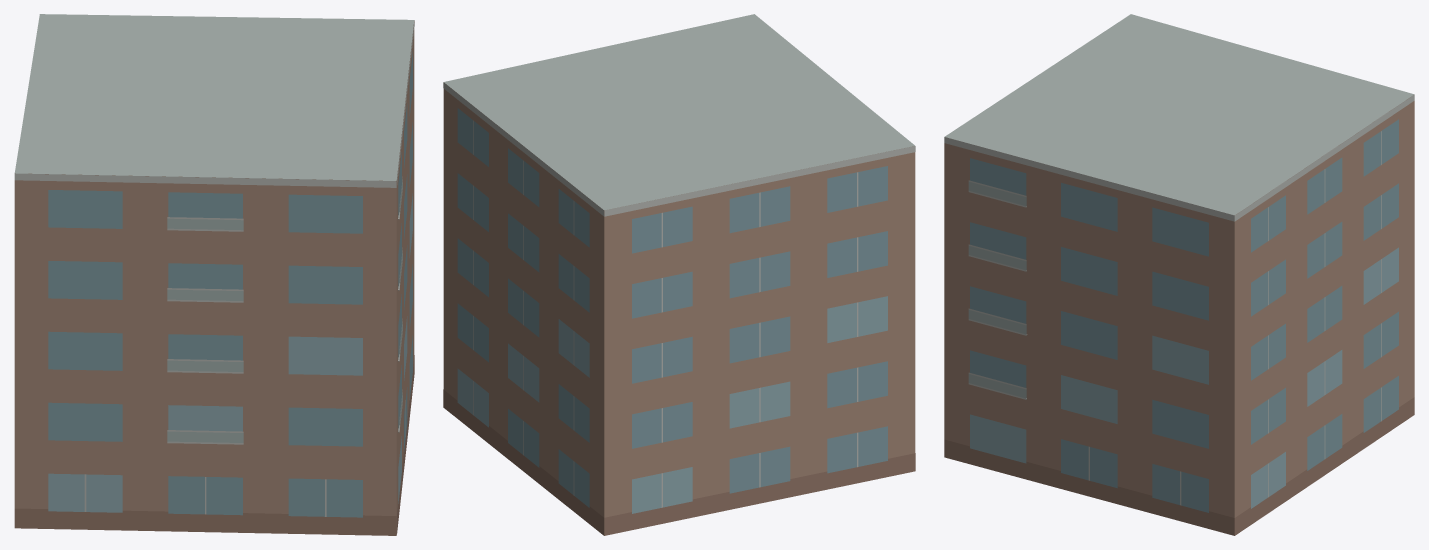
The model's file is survey-upis-32968911.glb.
3 views of the same model, side by side, from view 1: azimuth 30°, elevation 25°; view 2: azimuth 150°, elevation 25°; view 3: azimuth 270°, elevation 25° (orthographic). The views are drawn at different scales.
Visible parts, largest first — view 1: survey-upis-32968911.tmp; view 2: survey-upis-32968911.tmp; view 3: survey-upis-32968911.tmp.
Part boxes in pixels (left/top/right/bottom): survey-upis-32968911.tmp: left=14, top=14, right=414, bottom=535; survey-upis-32968911.tmp: left=443, top=14, right=915, bottom=535; survey-upis-32968911.tmp: left=944, top=14, right=1414, bottom=535.
Size of the model in its own units: 16.97 by 12.58 by 16.74.
